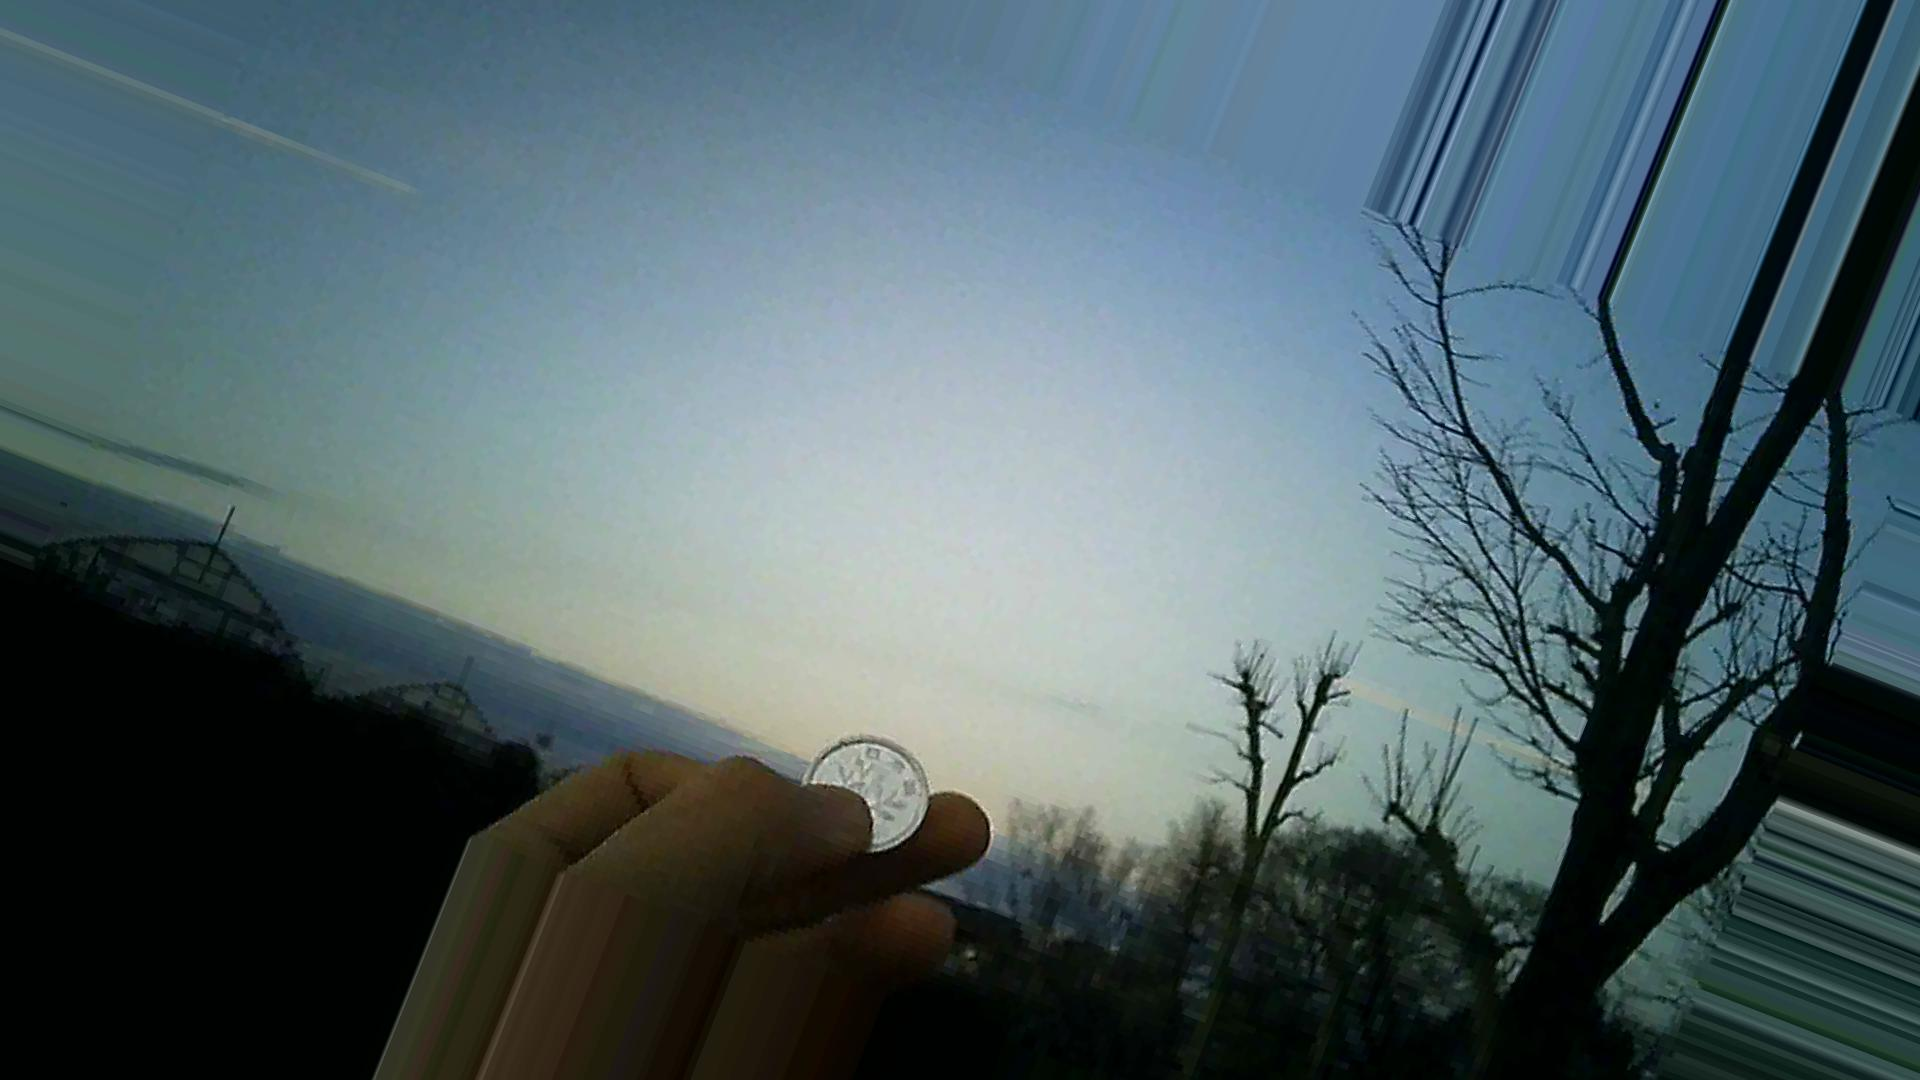1 Yen: (793, 729, 938, 858)
